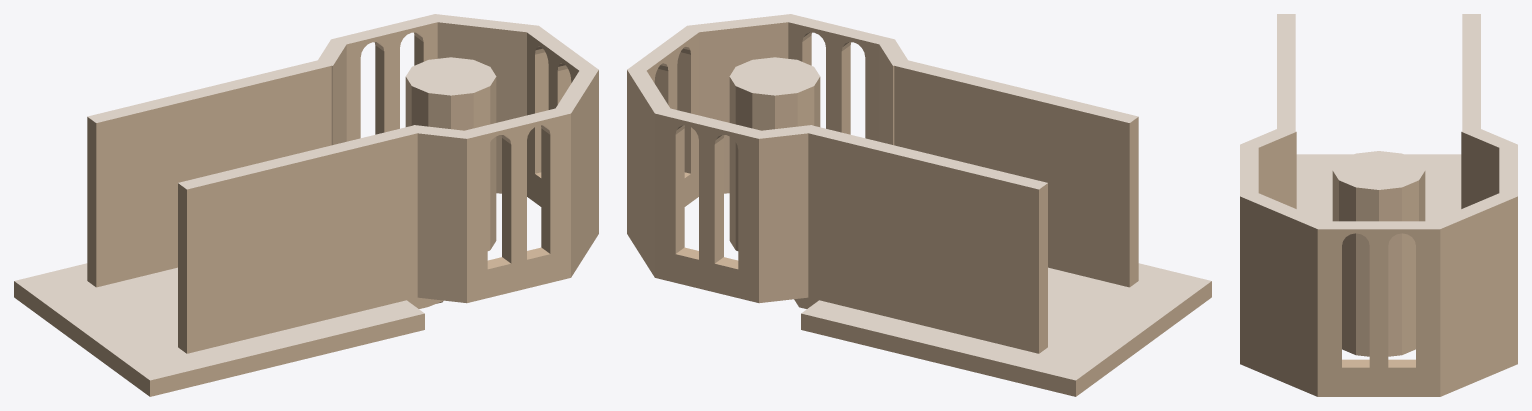
Rendered from Abbey-2.glb.
3 renders of one model, left to right at view 1: azimuth 30°, elevation 25°; view 2: azimuth 150°, elevation 25°; view 3: azimuth 270°, elevation 25°, orthographic. The views are drawn at different scales.
Visible parts, largest first — view 1: mergedBlocks(Clone); view 2: mergedBlocks(Clone); view 3: mergedBlocks(Clone).
Part boxes in pixels (x1,y1,x2,y2): mergedBlocks(Clone): (14, 14, 598, 396); mergedBlocks(Clone): (627, 14, 1211, 396); mergedBlocks(Clone): (1240, 14, 1517, 396).
Size of the model in its own units: 18.6 by 6.6 by 9.
